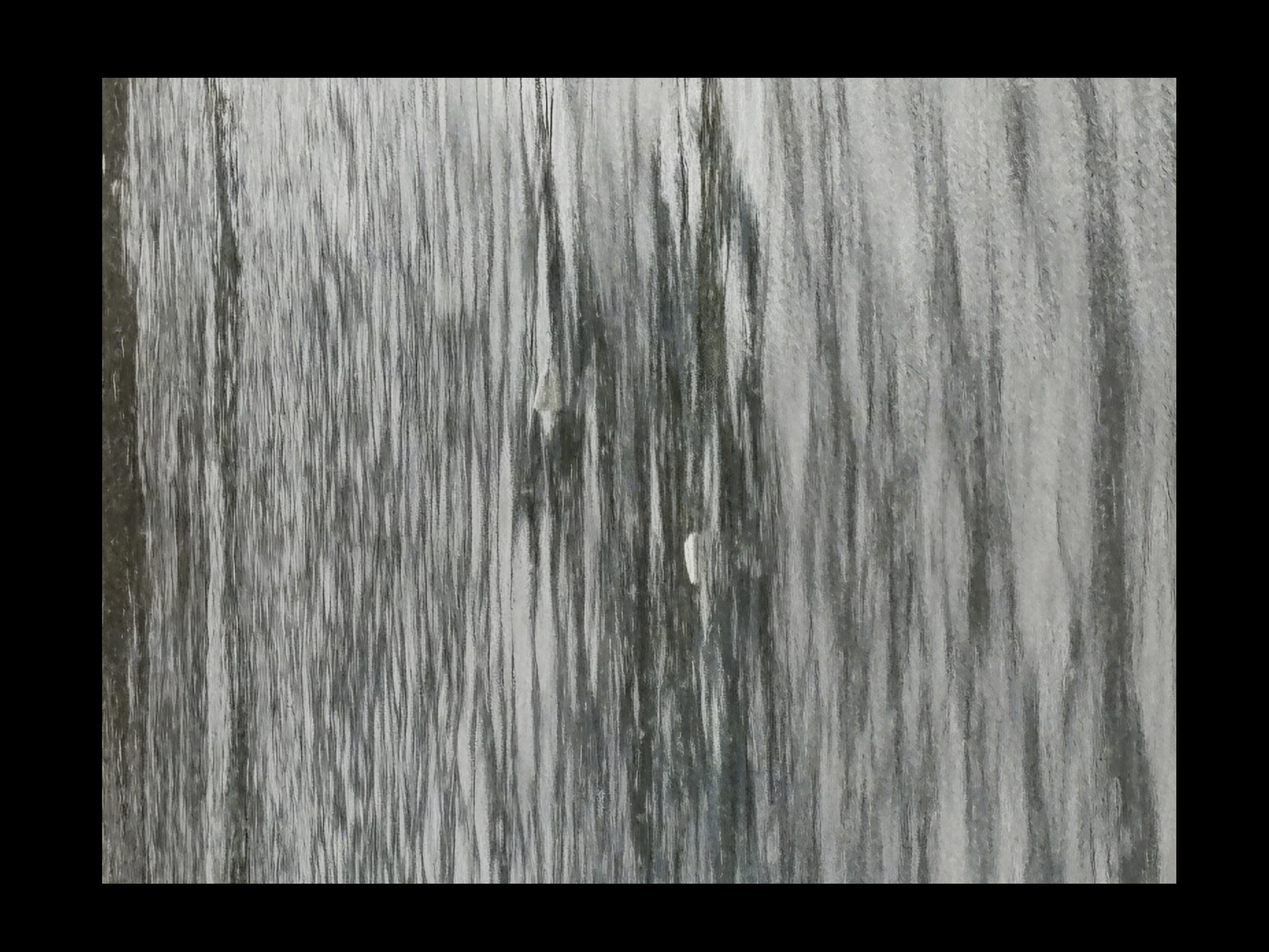Plastic wastes: (700, 518, 746, 567)
